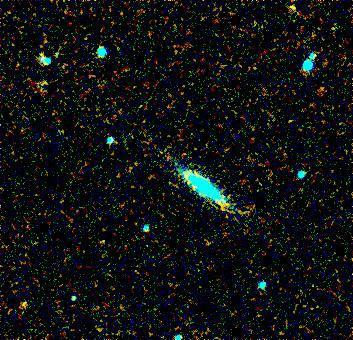star: (11, 289, 41, 319)
